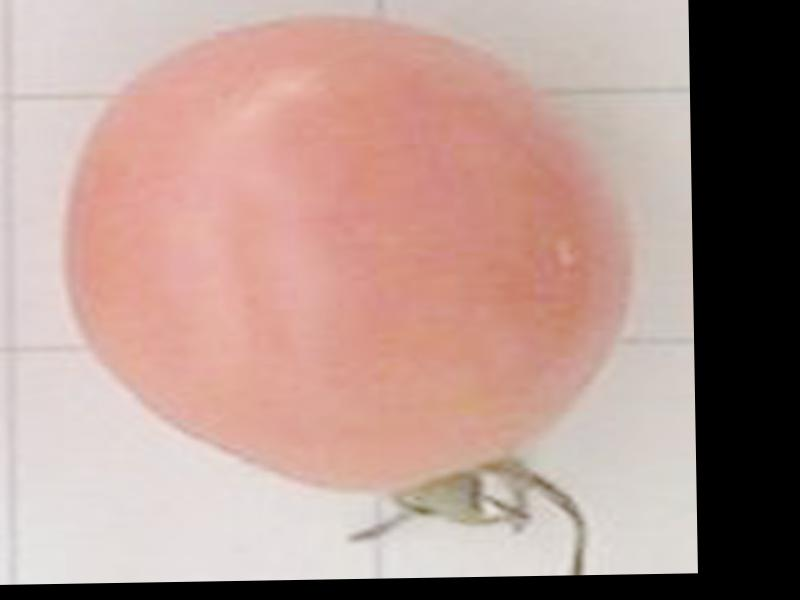Tomato: (60, 11, 636, 498)
